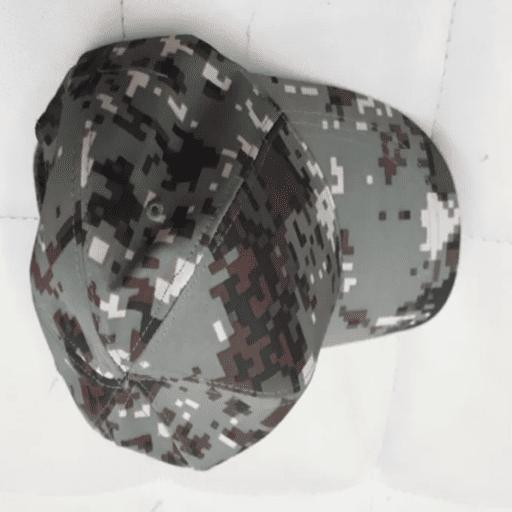korea army: (30, 34, 456, 467)
